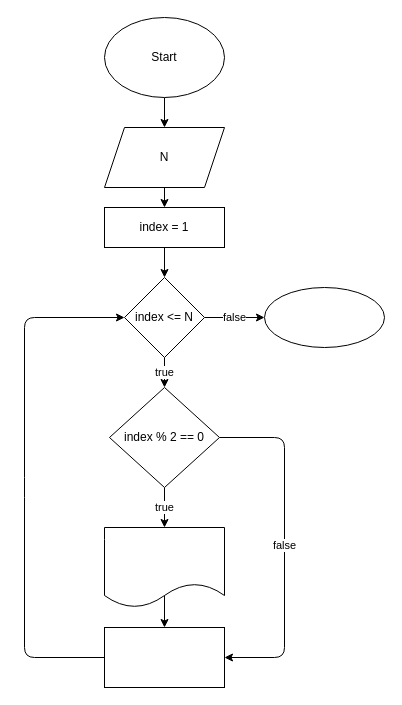
Image size: 402x705. Some labels were removed from this diagram. Each missing label, with the centre of its shape:
"End" belongs at point (324, 317).
"index" belongs at point (164, 567).
"index = index + 1" belongs at point (164, 657).
